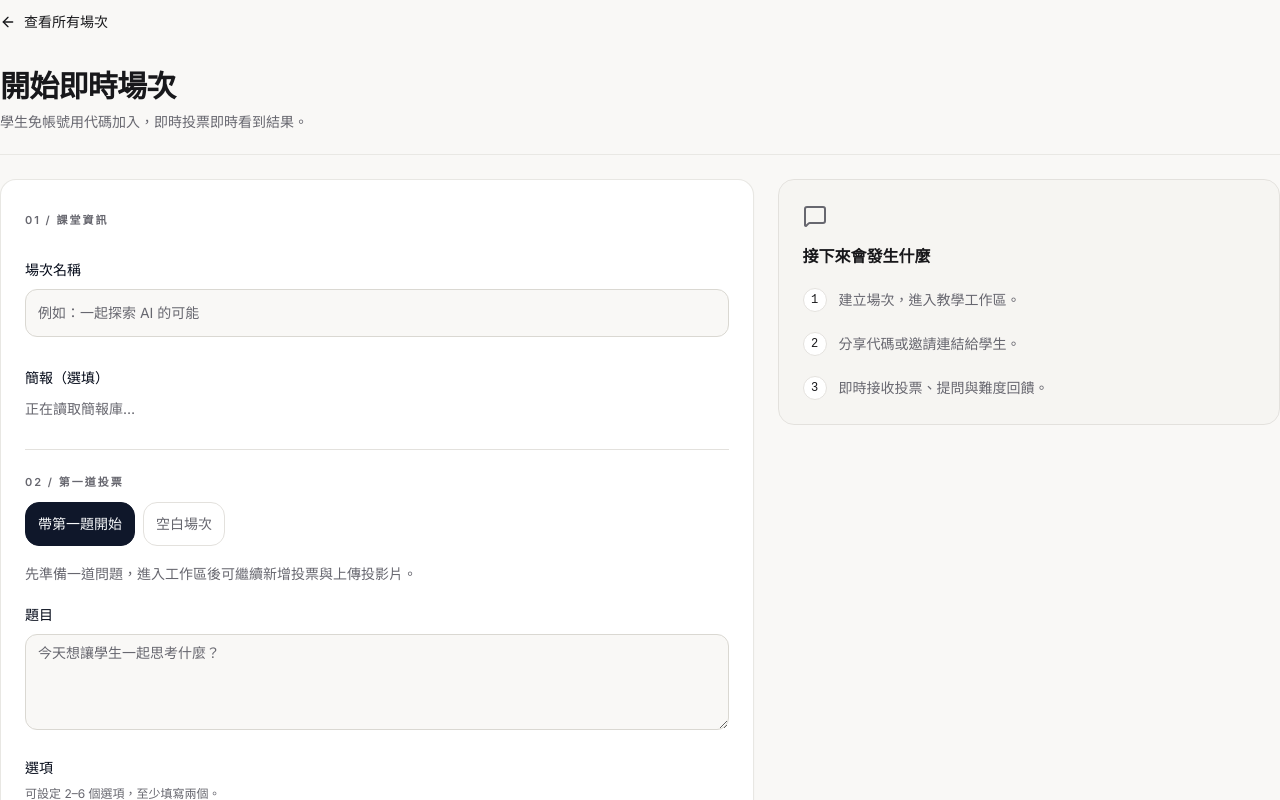
Test case: Live Session experience › validates the first poll and uses an explicit workspace action after creating
This screenshot has width=1280, height=800.
Type " AI 課堂 " into the field labelled "場次名稱". click: [377, 312]
box: 25,288 -> 729,336
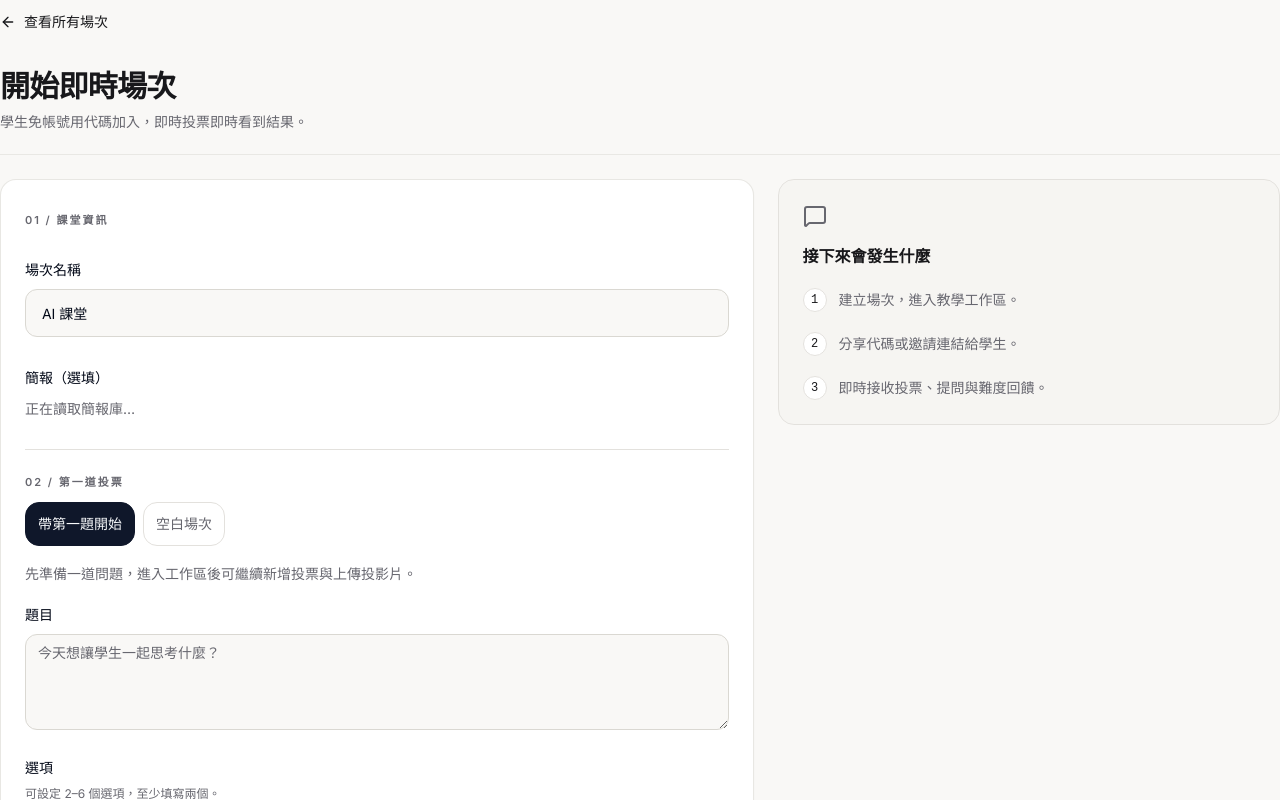
Type " 問題 " into the text box labelled "題目". click: [377, 682]
box: 25,634 -> 729,730
(page scrolled)
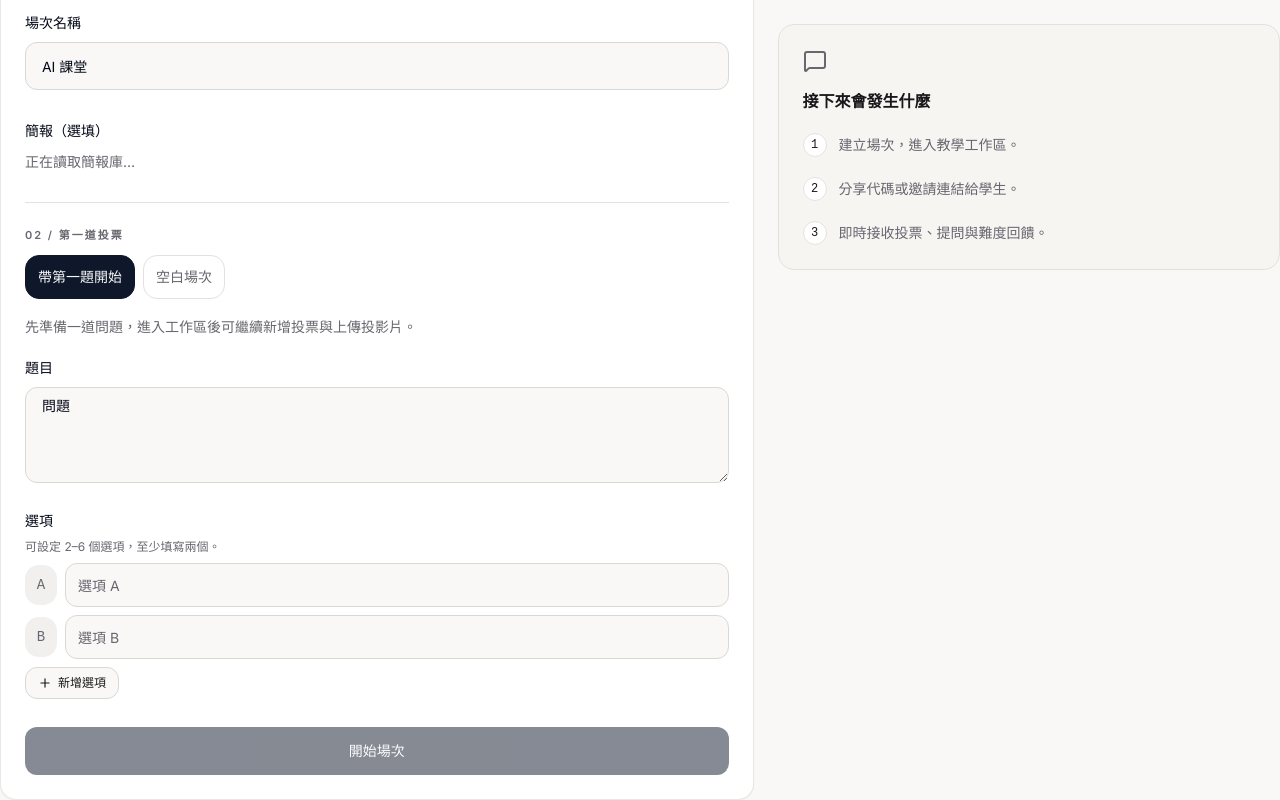
Type " 是 " into the field labelled "選項 A". click: [397, 585]
box: 65,563 -> 729,607
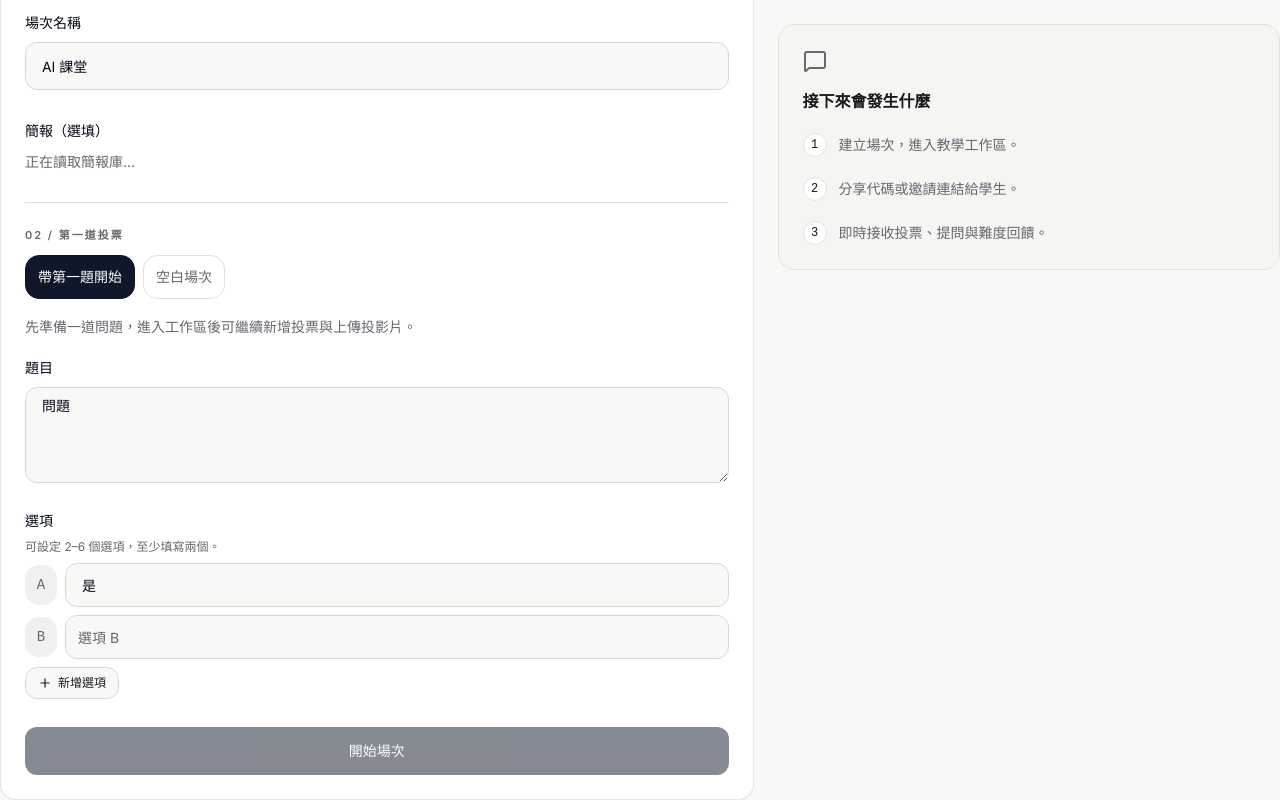
Expected: the button "開始場次" is disabled, 25,727 -> 729,775
Type " 否 " into the field labelled "選項 B". click: [397, 637]
box: 65,615 -> 729,659
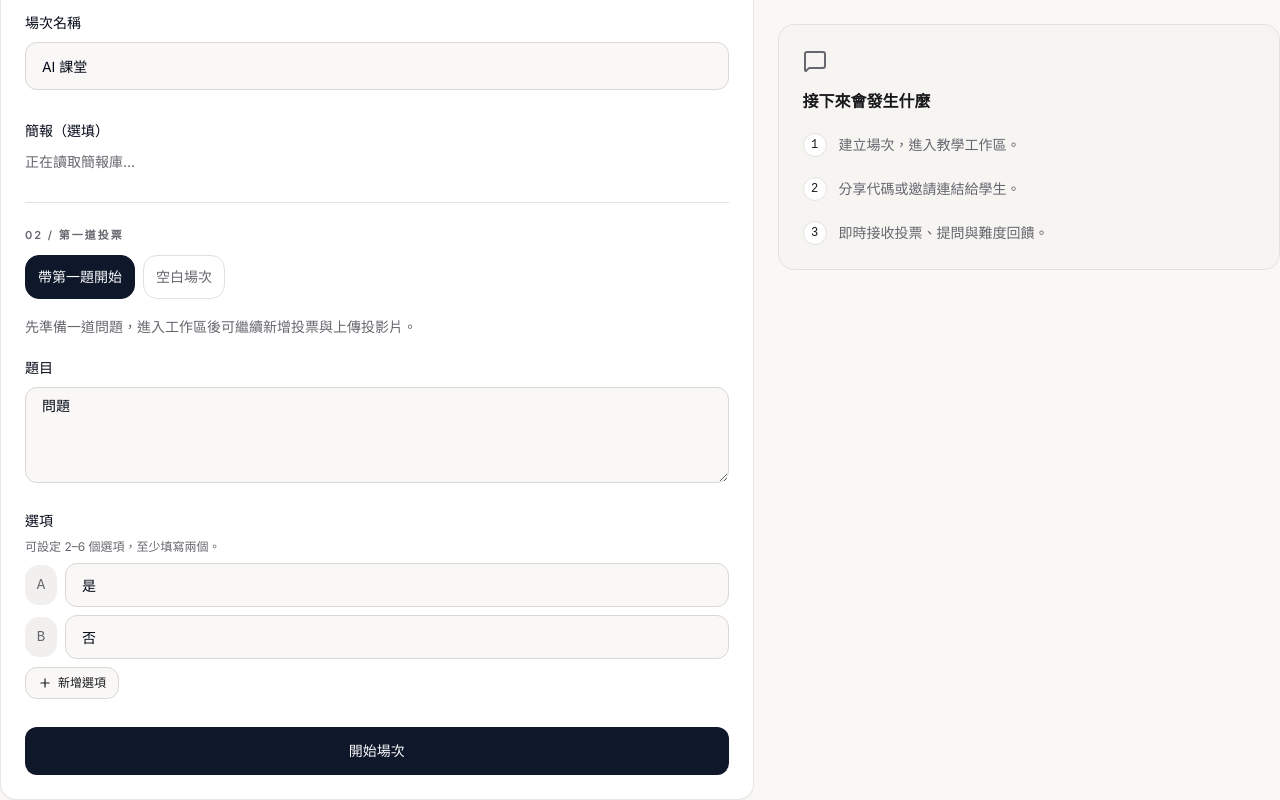
Now the button "開始場次" is enabled
Click the button "開始場次". click: [377, 751]
box: 25,727 -> 729,775
(page scrolled)
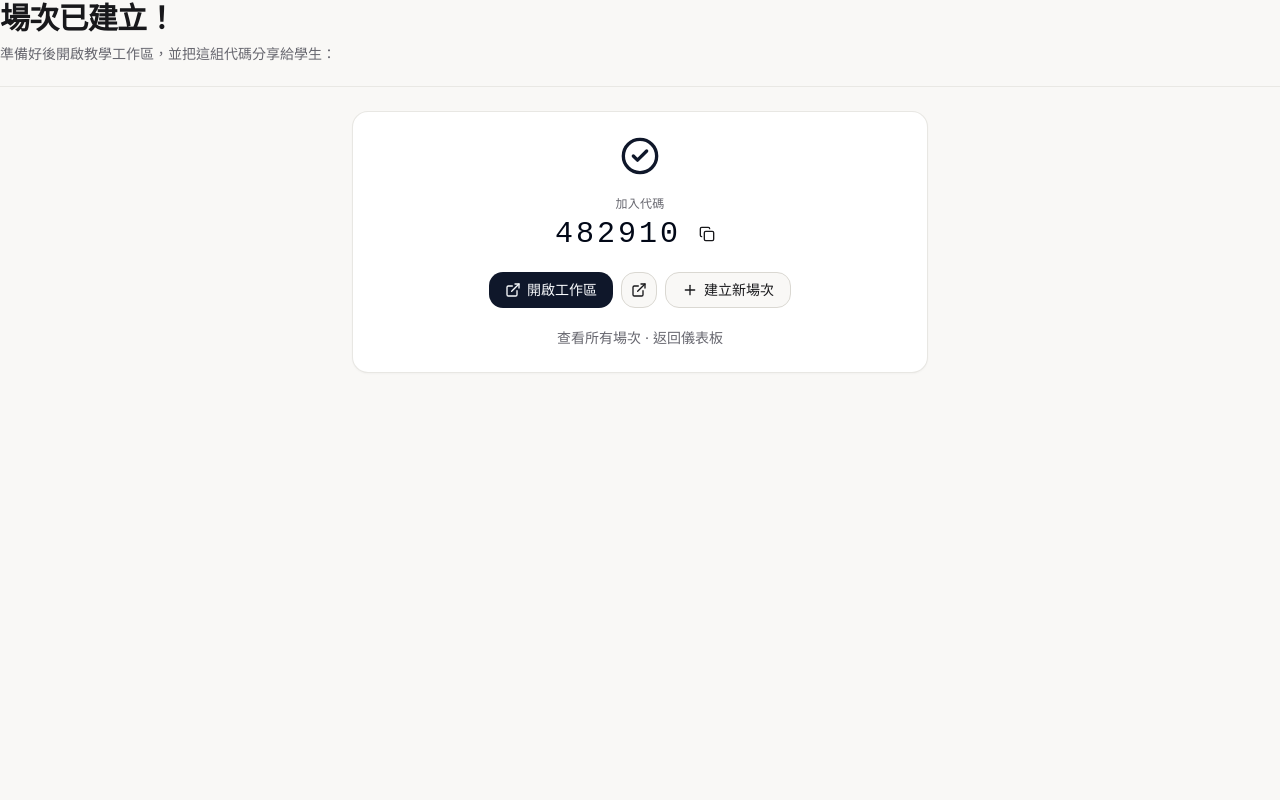
Now the heading "場次已建立！" is shown, box 0,0 -> 176,36
Now the button named "在新分頁開啟" is shown, box 621,272 -> 657,308
